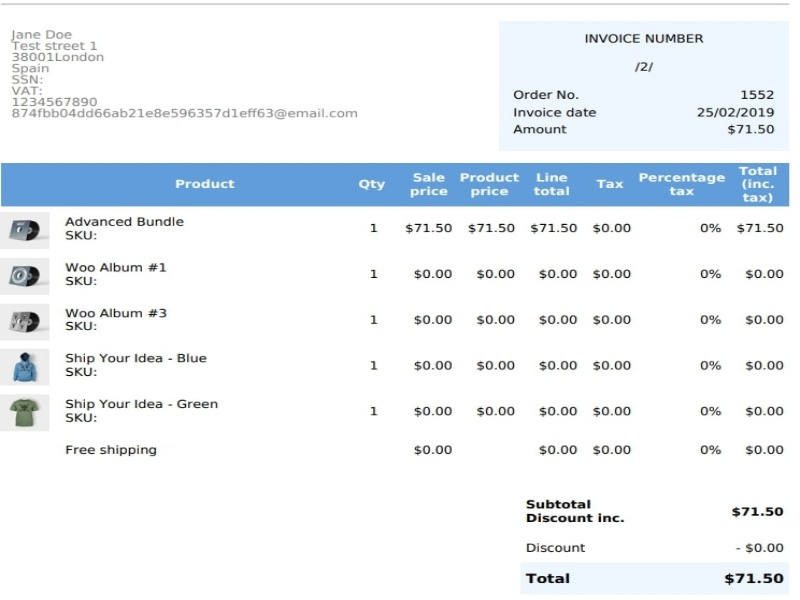invoice_detail: (7, 25, 360, 120)
table: (1, 165, 789, 456)
total: (525, 562, 788, 593)
